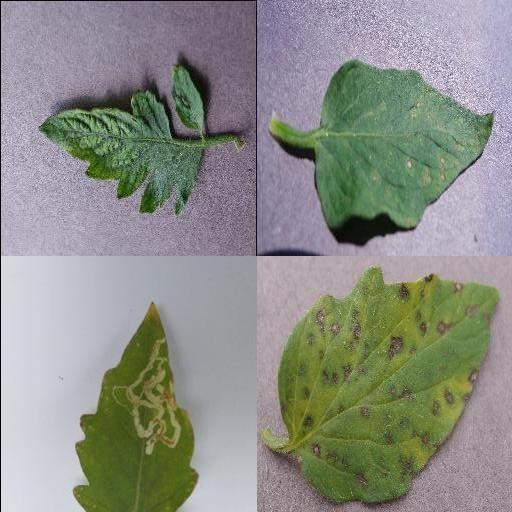Leaf Miner: (71, 302, 200, 512)
Mosaic Virus: (38, 91, 204, 215)
Septoria: (277, 271, 497, 505), (313, 58, 499, 230)
